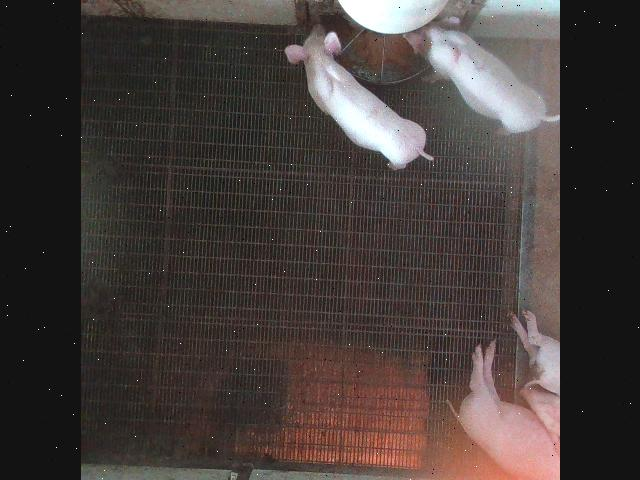pig-5: (402, 18, 558, 135)
